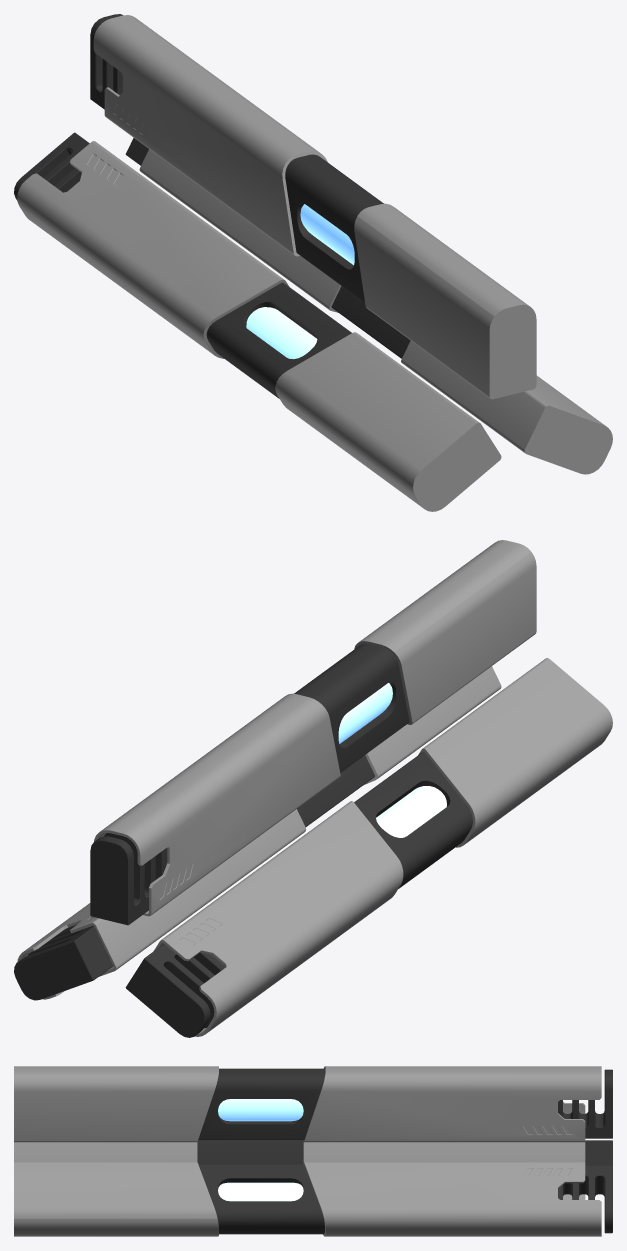
Rendered from Canon.fbx.
3 renders of one model, top to bottom at view 1: azimuth 30°, elevation 25°; view 2: azimuth 150°, elevation 25°; view 3: azimuth 270°, elevation 25°, orthographic. The views are drawn at different scales.
Visible parts, largest first — view 1: Canon 3, Canon 1, Canon 2; view 2: Canon 3, Canon 1, Canon 2; view 3: Canon 1, Canon 2, Canon 3.
Part boxes in pixels (x1,y1,x2,y2): Canon 3: (14, 132, 501, 511); Canon 1: (90, 14, 536, 399); Canon 2: (125, 138, 612, 474); Canon 3: (125, 658, 612, 1037); Canon 1: (90, 540, 536, 925); Canon 2: (14, 666, 501, 1000); Canon 1: (14, 1066, 612, 1142); Canon 2: (14, 1162, 612, 1236); Canon 3: (14, 1140, 612, 1165).
Bounding box in the file's own units: 33.81 × 30.06 × 118.
